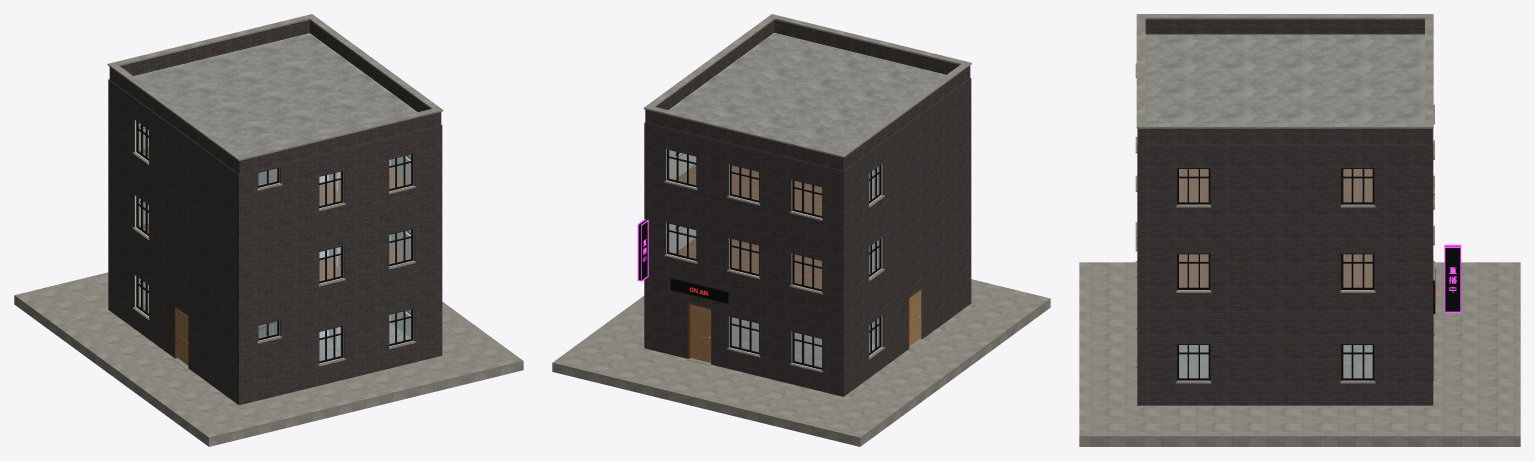
File: b_stream_studio.gltf
3 renders of one model, left to right at view 1: azimuth 30°, elevation 25°; view 2: azimuth 150°, elevation 25°; view 3: azimuth 270°, elevation 25°, orthographic. The views are drawn at different scales.
Visible parts, largest first — view 1: S_stream_studio, D_stream_studio_F1_E1_Door0; view 2: S_stream_studio, D_stream_studio_F1_S2_Door0, D_stream_studio_F1_E1_Door0; view 3: S_stream_studio.
Part boxes in pixels (bbox=[...]): S_stream_studio: bbox=[14, 14, 523, 446]; D_stream_studio_F1_E1_Door0: bbox=[178, 309, 188, 365]; S_stream_studio: bbox=[552, 14, 1050, 446]; D_stream_studio_F1_S2_Door0: bbox=[690, 304, 710, 362]; D_stream_studio_F1_E1_Door0: bbox=[909, 291, 919, 345]; S_stream_studio: bbox=[1079, 14, 1520, 446].
Size of the model in its own units: 14 by 10.86 by 15.
18 materials, 10 textured.
